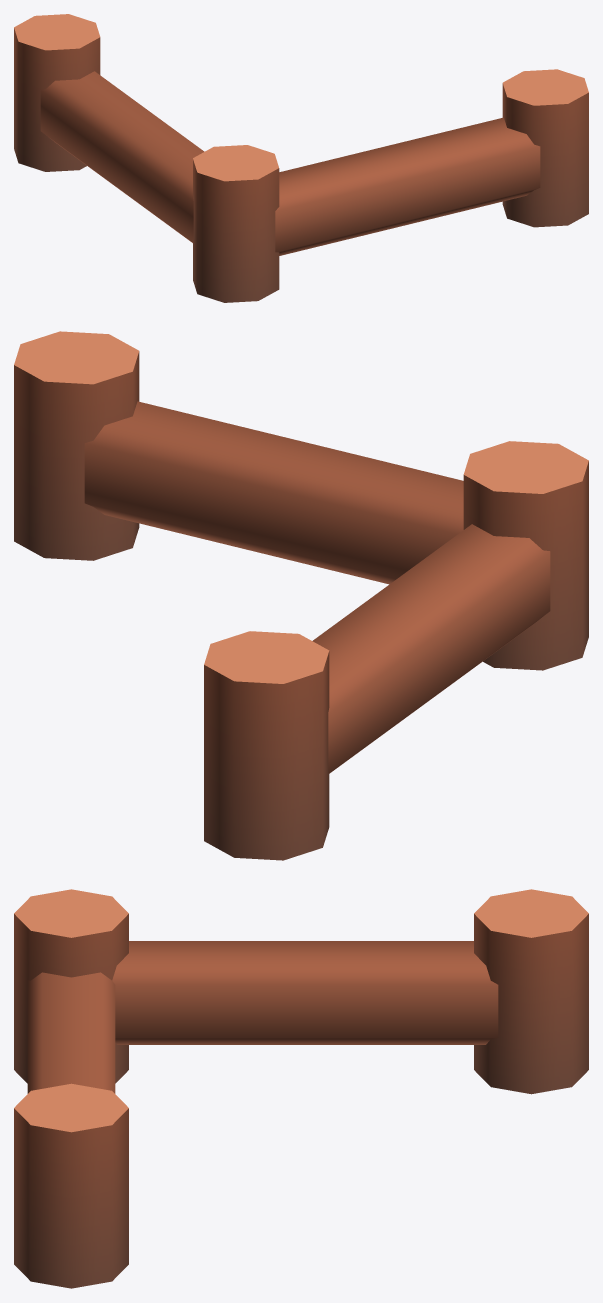
The model's file is fence-low-corner.glb.
The picture shows the model from 3 angles, top to bottom: view 1: azimuth 30°, elevation 25°; view 2: azimuth 150°, elevation 25°; view 3: azimuth 270°, elevation 25°; orthographic projection. The views are drawn at different scales.
Visible parts, largest first — view 1: fence-low-corner; view 2: fence-low-corner; view 3: fence-low-corner.
Boxes of the visible parts, <box> form: fence-low-corner: <box>14,14,588,302</box>; fence-low-corner: <box>14,331,588,860</box>; fence-low-corner: <box>14,889,588,1288</box>.
Size of the model in its own units: 1 by 0.3 by 1.
1 material, 1 textured.
